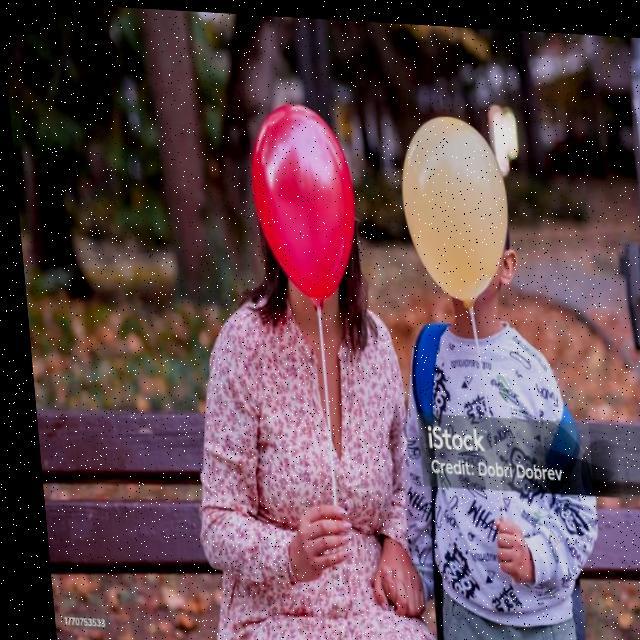balloon: (243, 91, 361, 310)
